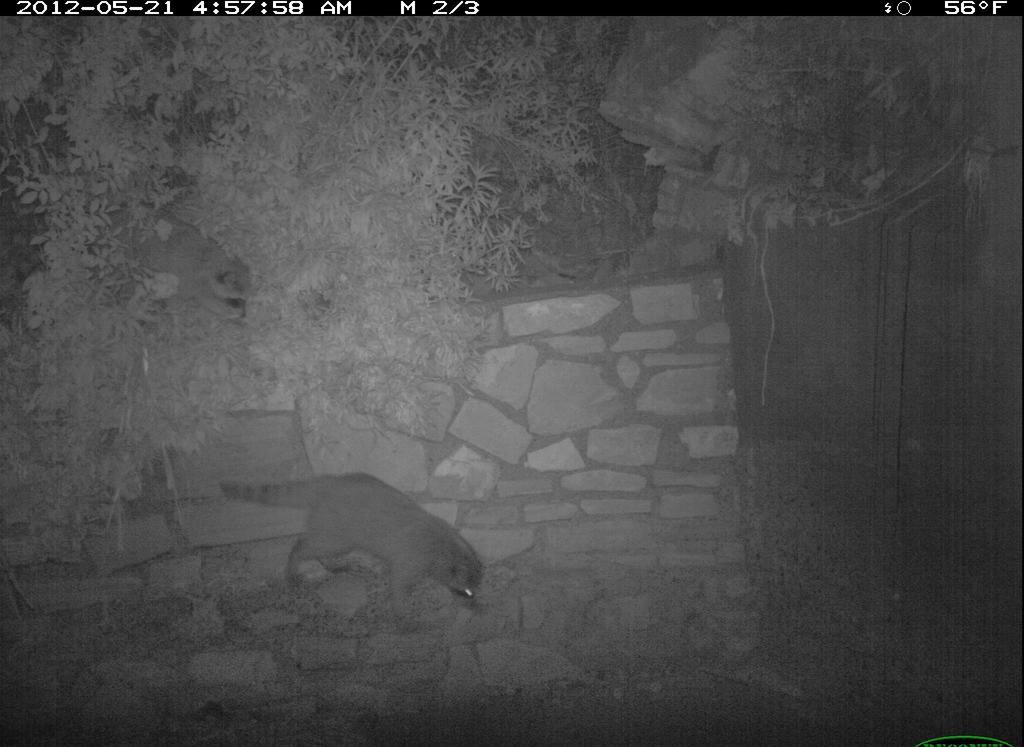raccoon: (203, 447, 500, 639)
